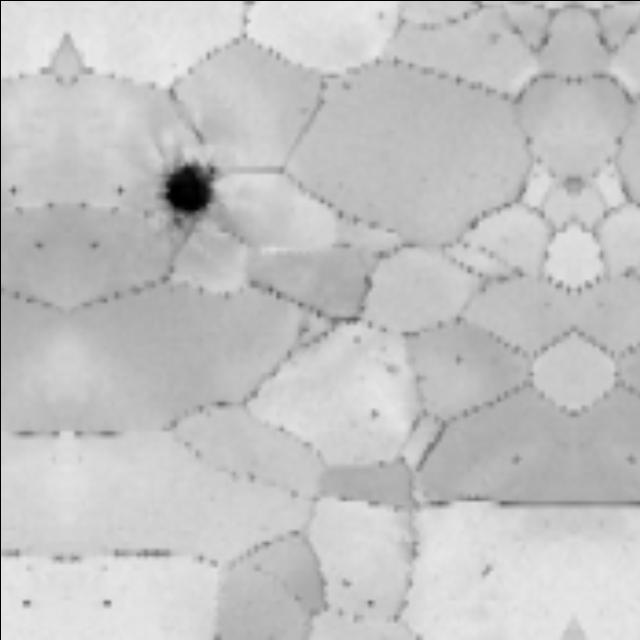good_void: (150, 144, 221, 231), (86, 234, 108, 257), (25, 234, 46, 257), (475, 561, 497, 580), (291, 322, 313, 340), (338, 575, 356, 591), (508, 449, 523, 468), (625, 449, 640, 468), (453, 350, 468, 367), (99, 597, 115, 611), (368, 406, 382, 422), (362, 597, 377, 611), (18, 597, 33, 611), (114, 184, 126, 199), (7, 184, 19, 199)
